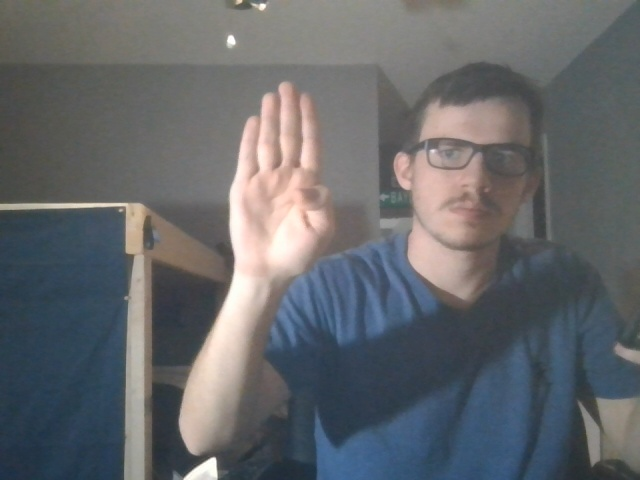B: (213, 77, 346, 286)
